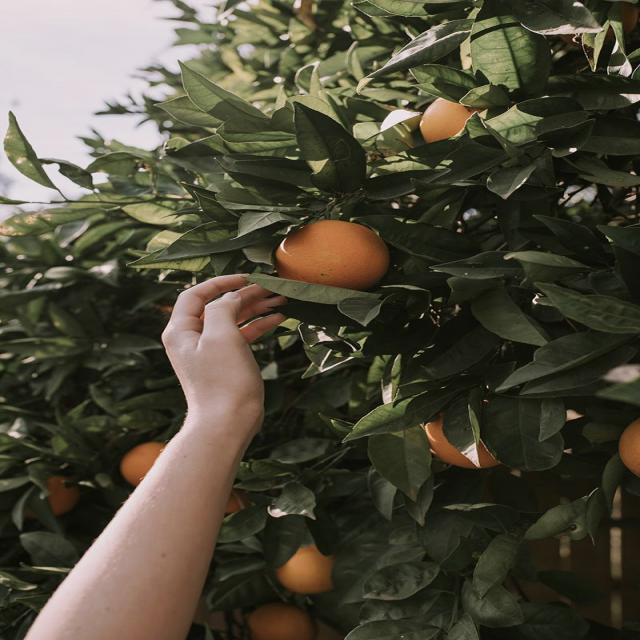Jeruk Sudah Matang: (274, 220, 390, 291), (423, 420, 500, 471), (414, 97, 483, 144), (276, 546, 334, 597), (246, 603, 316, 640), (121, 443, 163, 486), (618, 418, 640, 479)
